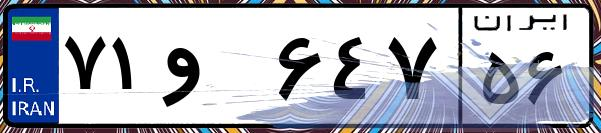1: (110, 28, 158, 98)
4: (330, 28, 385, 110)
5: (475, 38, 525, 113)
6: (270, 28, 330, 110), (525, 38, 570, 115)
7: (385, 28, 445, 110), (57, 26, 110, 100)
و: (158, 20, 270, 120)
